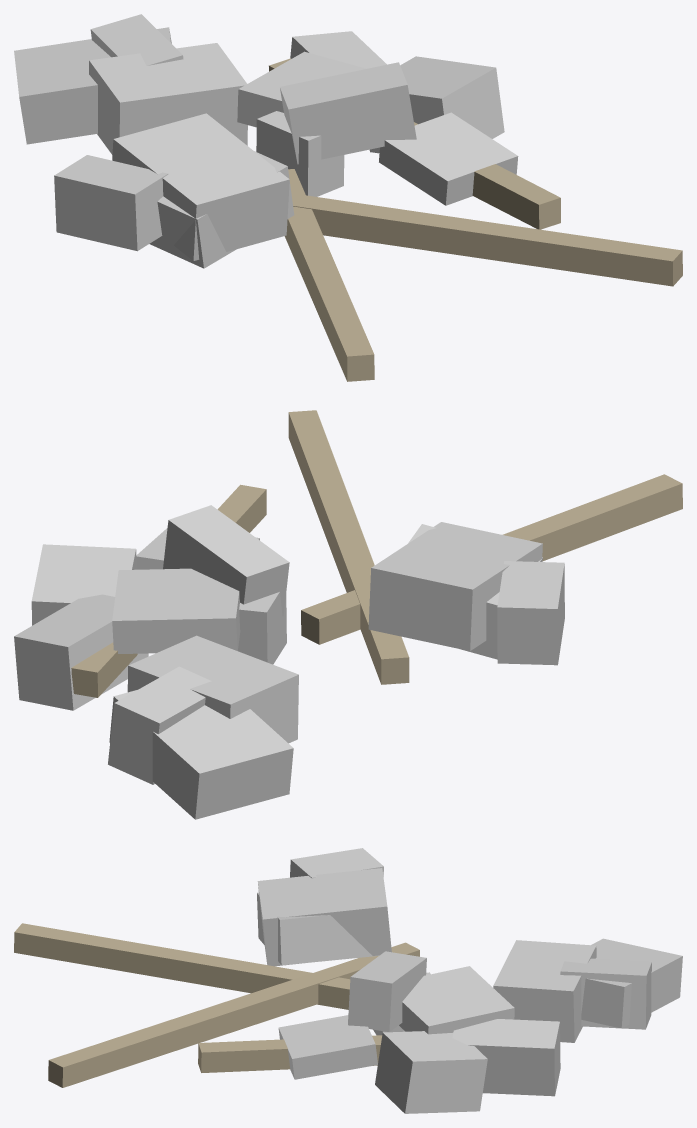
Rendered from AE_C04_CollapsePile.fbx.
The picture shows the model from 3 angles, top to bottom: view 1: azimuth 30°, elevation 25°; view 2: azimuth 150°, elevation 25°; view 3: azimuth 270°, elevation 25°; orthographic projection. The views are drawn at different scales.
Parts seen in each view (by area): view 1: AE_C04_CollapsePile_LOD0; view 2: AE_C04_CollapsePile_LOD0; view 3: AE_C04_CollapsePile_LOD0.
Part boxes in pixels (x1,y1,x2,y2): AE_C04_CollapsePile_LOD0: (14,14,682,381); AE_C04_CollapsePile_LOD0: (14,410,682,819); AE_C04_CollapsePile_LOD0: (14,848,682,1113).
Size of what is drawn, in the model's own units: 139 by 32.7 by 206.
